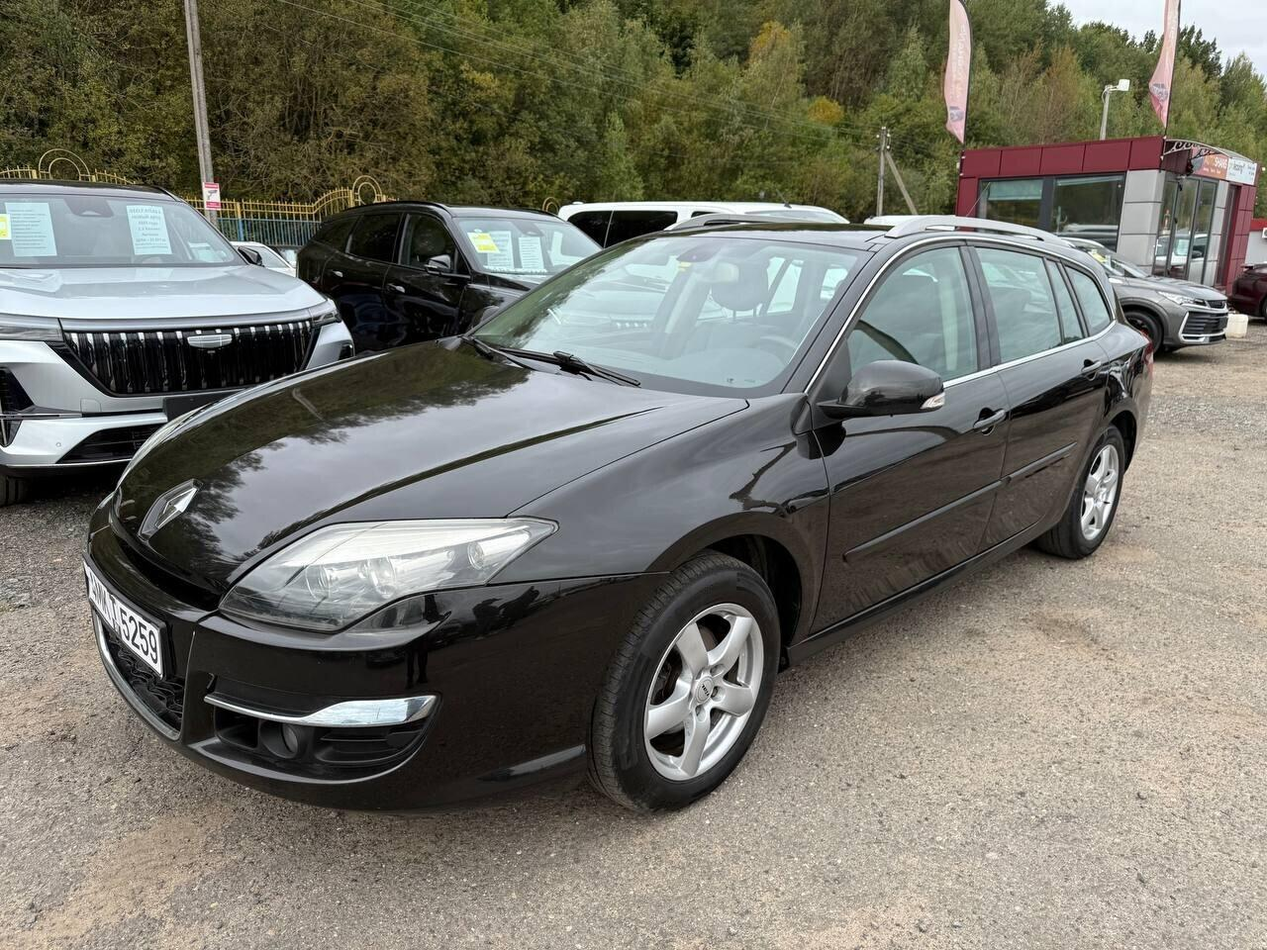Laguna_2010-2015: (68, 202, 1159, 821)
